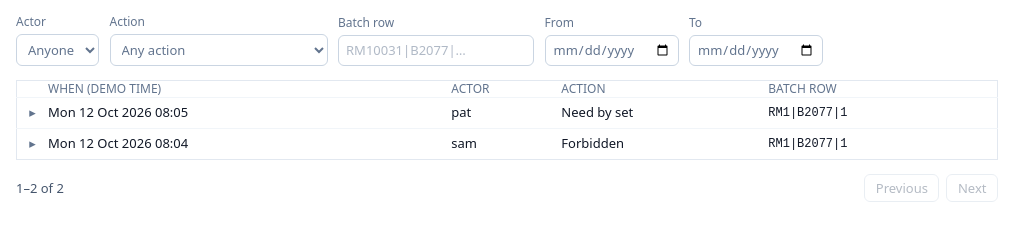
Test: F11-FR-06: a "to" before "from" is flagged and not sent
Type "2026-10-12" into the date field labelled "From".
click(612, 50); type("2026-10-12")  # box [544, 35, 678, 66]
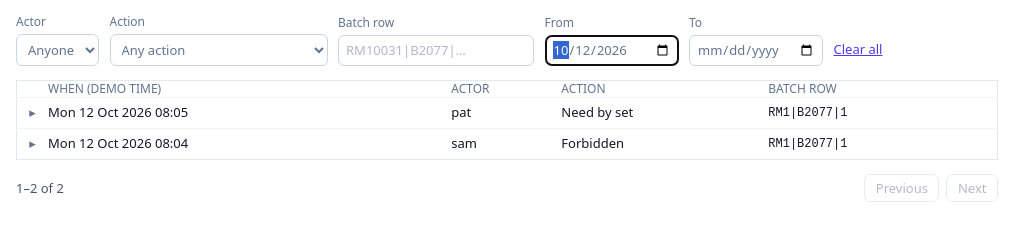
Type "2026-10-10" into the date field labelled "To".
click(756, 50); type("2026-10-10")  # box [689, 35, 823, 66]
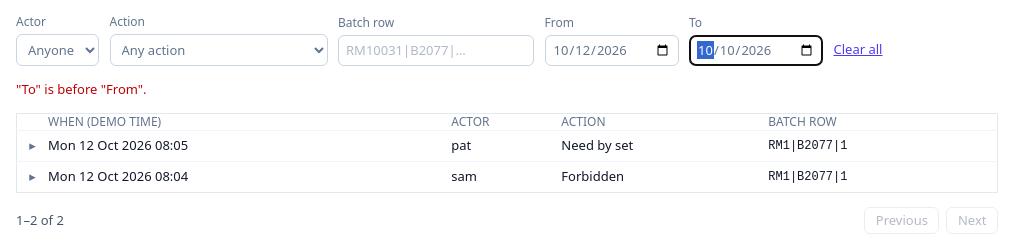
Result: the message shows "before" at [16, 80, 147, 98]
